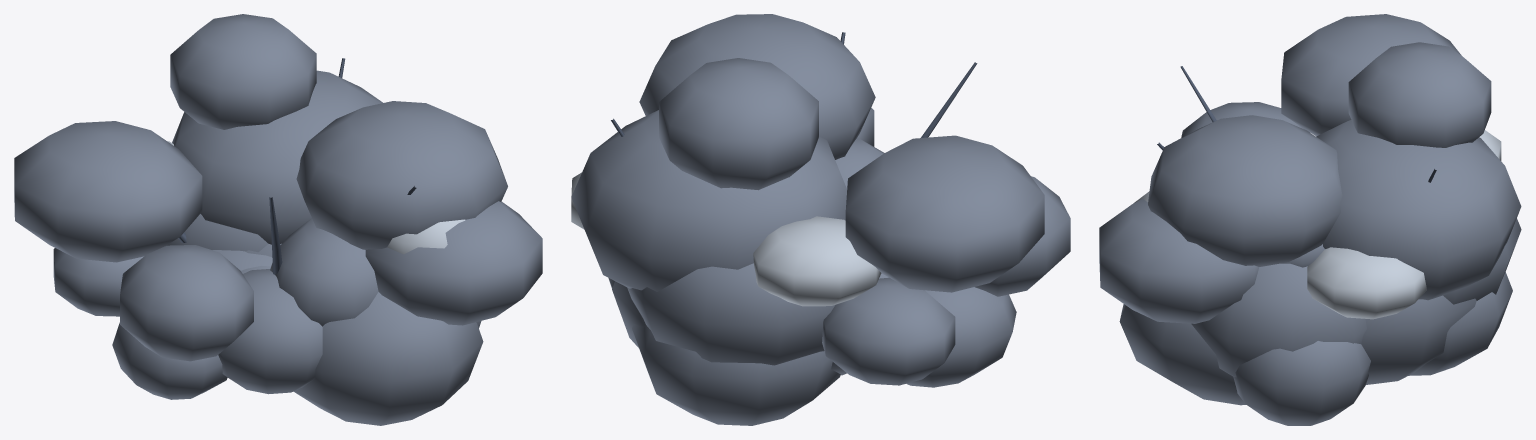
The model's file is 灌木丛.glb.
3 views of the same model, side by side, from view 1: azimuth 30°, elevation 25°; view 2: azimuth 150°, elevation 25°; view 3: azimuth 270°, elevation 25° (orthographic). The views are drawn at different scales.
Visible parts, largest first — view 1: garden-shrub-leaf, garden-shrub-light, garden-shrub-branch; view 2: garden-shrub-leaf, garden-shrub-light, garden-shrub-branch; view 3: garden-shrub-leaf, garden-shrub-light.
Part boxes in pixels (<box>): garden-shrub-leaf: <box>14,14,542,425</box>; garden-shrub-light: <box>167,141,465,254</box>; garden-shrub-branch: <box>178,58,416,274</box>; garden-shrub-leaf: <box>571,14,1070,425</box>; garden-shrub-light: <box>571,172,881,306</box>; garden-shrub-branch: <box>611,32,977,137</box>; garden-shrub-leaf: <box>1099,14,1521,425</box>; garden-shrub-light: <box>1133,130,1501,319</box>.
Bounding box in the file's own units: 0.95 × 0.72 × 0.85.
